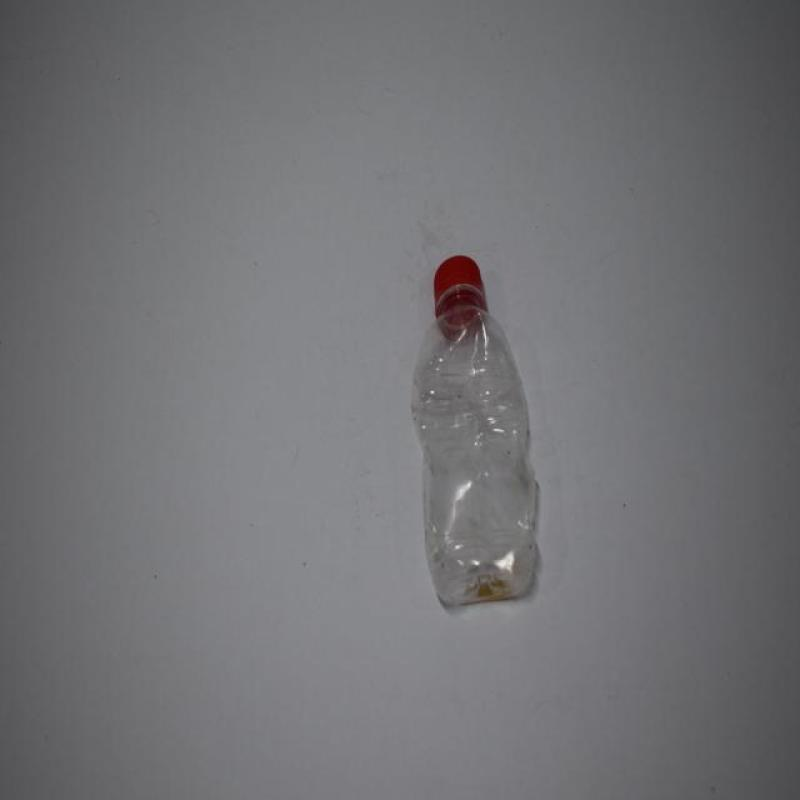botella: (408, 255, 542, 613)
